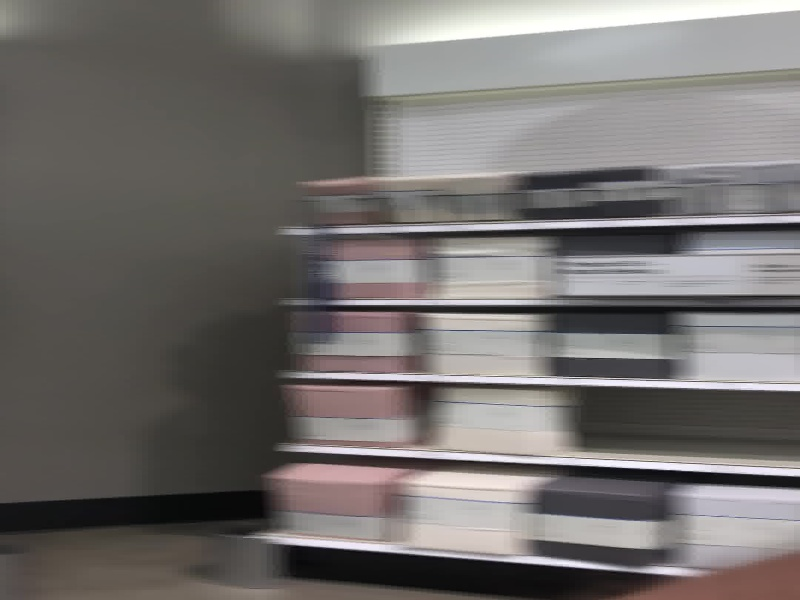void: (577, 387, 800, 456)
